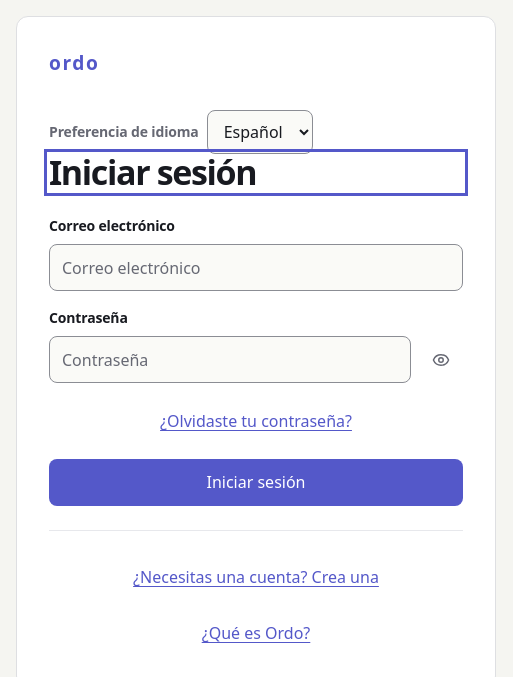
Test: authentication pages in Spanish › falls back to the Spanish generic message for unknown failures
The width and height of the screenshot is (513, 677).
Type "person@example.com" into the field labelled "Correo electrónico".
click(256, 268); type("person@example.com")  # box x1=49 y1=244 x2=463 y2=291
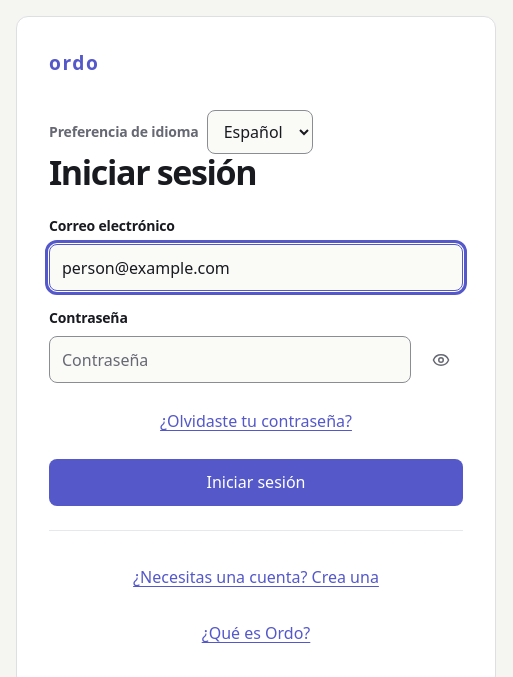
Type "Secret1!" into the password field labelled "Contraseña".
click(230, 360); type("Secret1!")  # box x1=49 y1=336 x2=411 y2=383
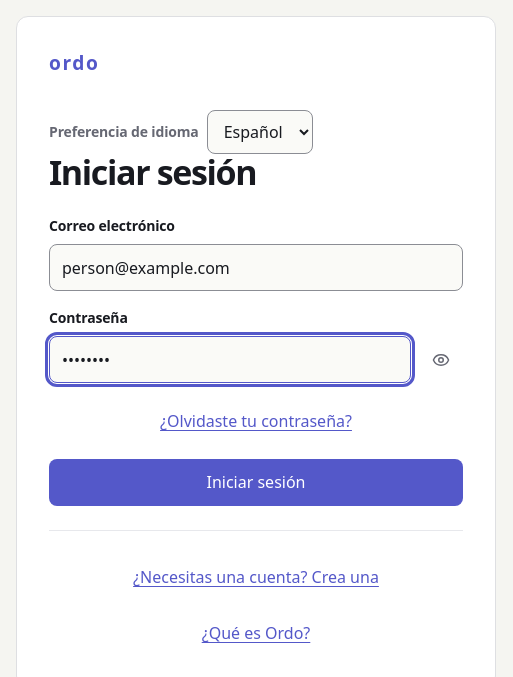
Click the button "Iniciar sesión".
click(256, 482)  # box x1=49 y1=459 x2=463 y2=506
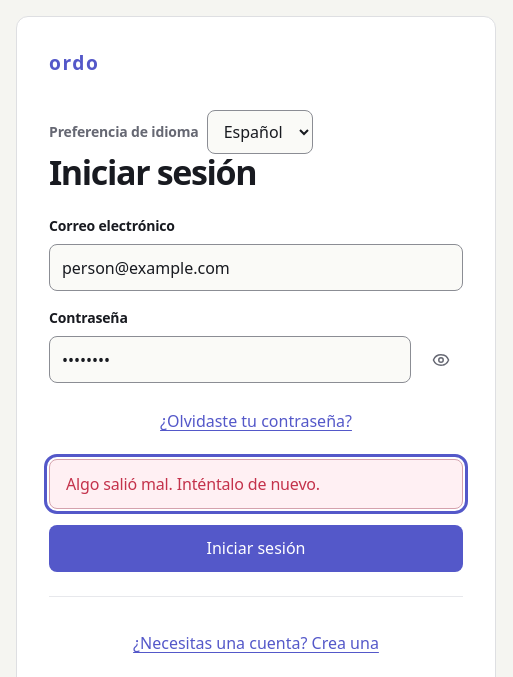
expect the message shows "Algo salió mal.": met, box x1=66 y1=473 x2=320 y2=495
